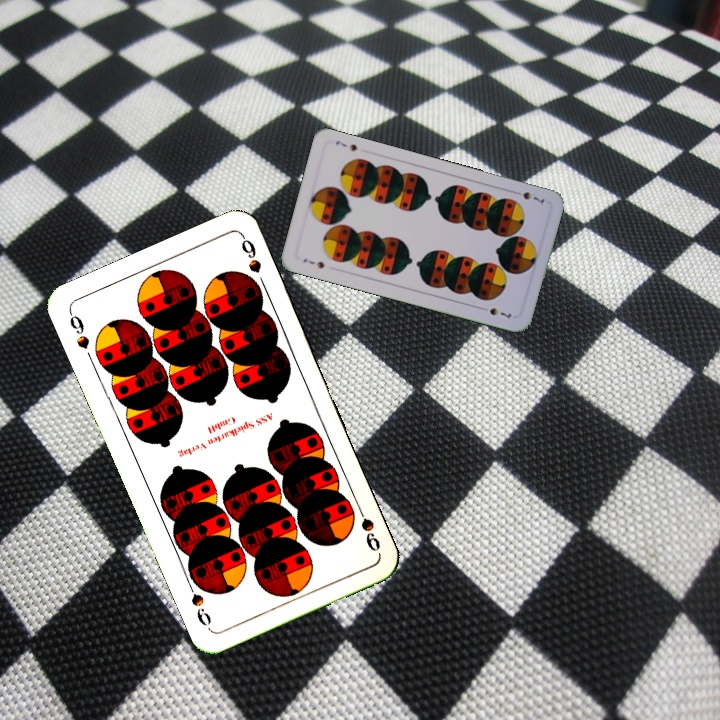S7: (509, 187, 547, 208), (299, 254, 327, 271)
S9: (351, 499, 383, 555), (65, 308, 92, 352)
